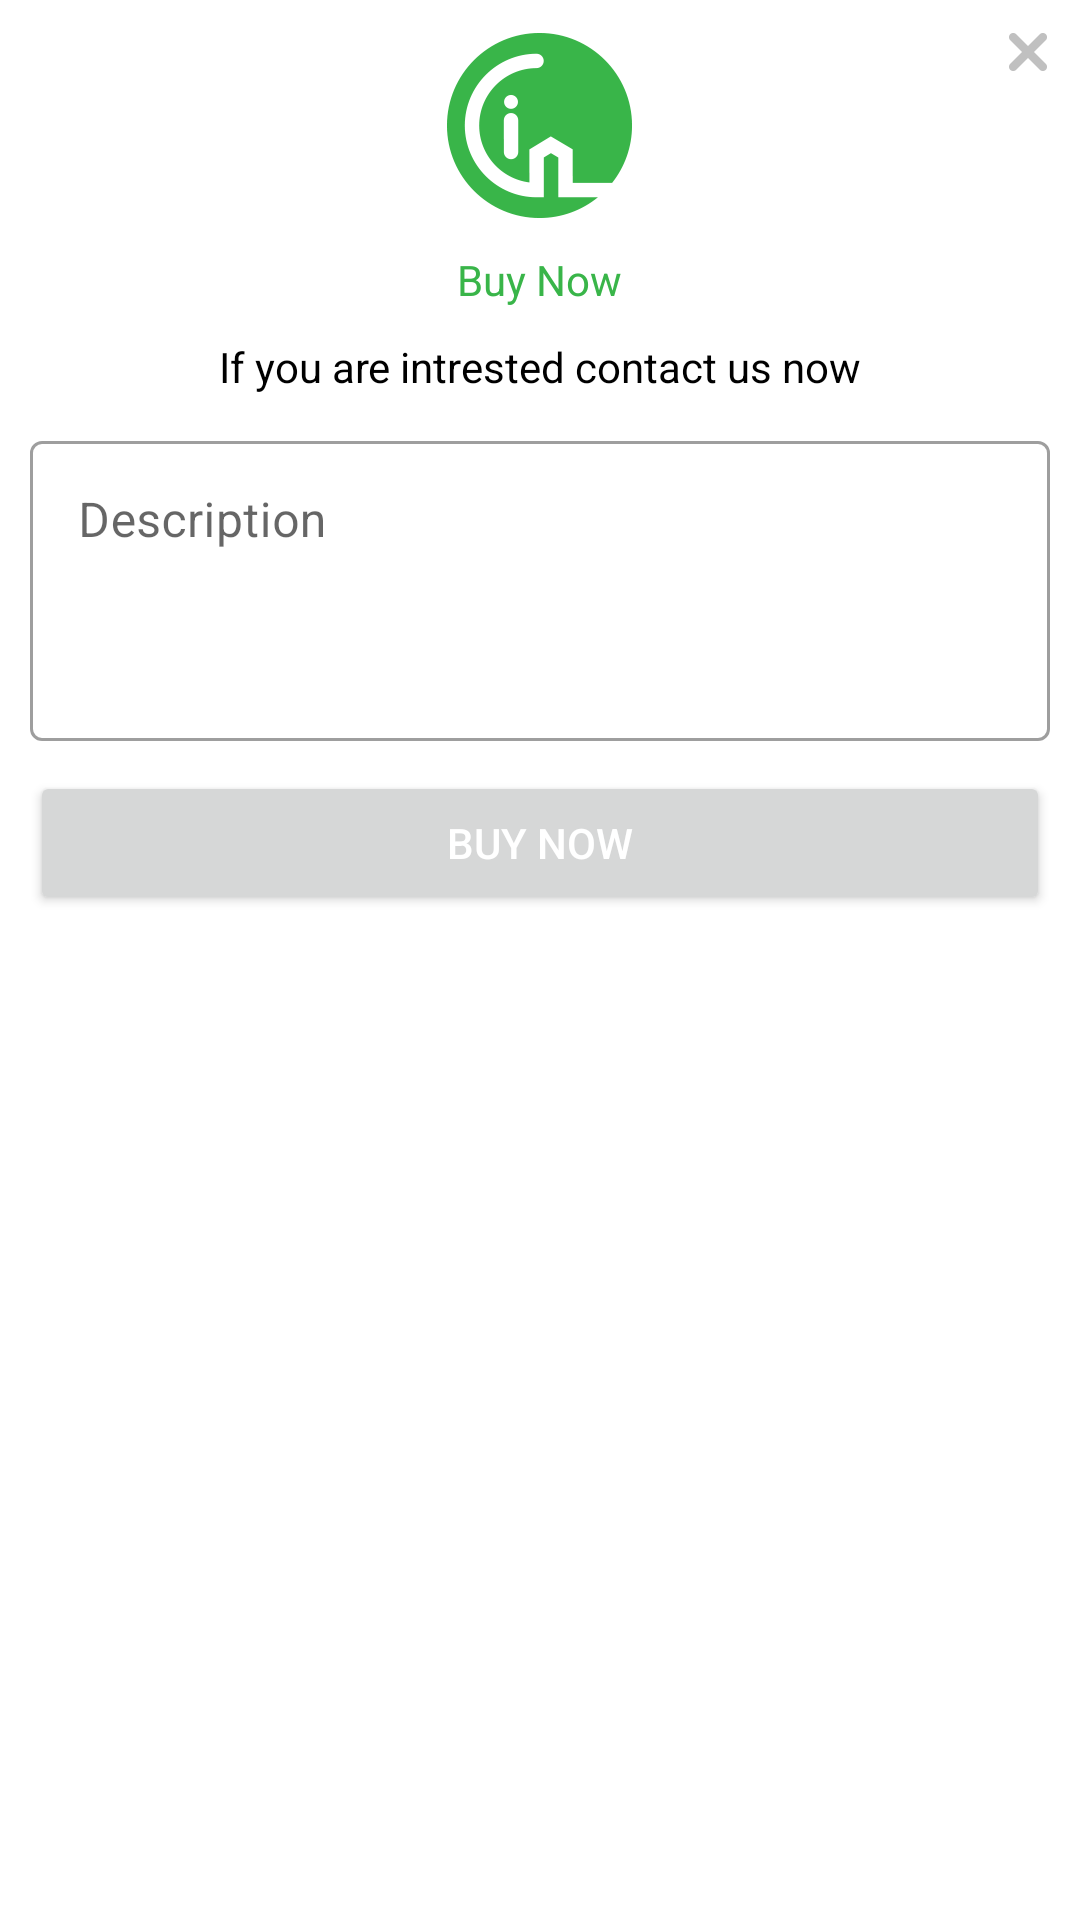

Screen size 1080×1920. Icon name, then its center in pixels as (x,y):
cancel popup: (1028,52)
